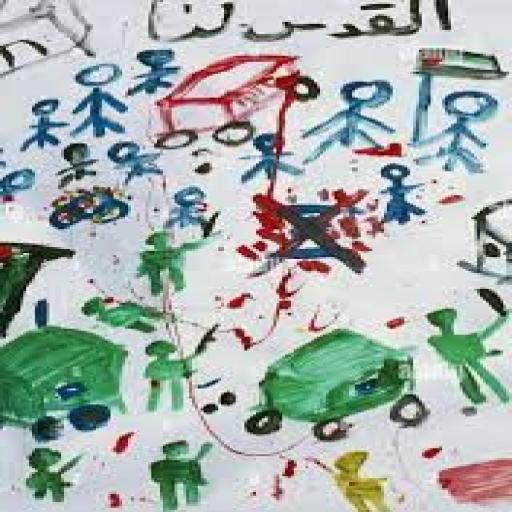person: (423, 291, 512, 425), (292, 74, 409, 170), (409, 90, 504, 176), (294, 448, 414, 506), (130, 437, 220, 510), (132, 338, 214, 418), (358, 163, 427, 246), (60, 294, 198, 334), (139, 228, 209, 292), (69, 65, 127, 142), (17, 443, 83, 508), (148, 185, 226, 237), (232, 132, 298, 190), (40, 140, 107, 193), (8, 101, 70, 152), (110, 133, 164, 191), (134, 49, 184, 103)
